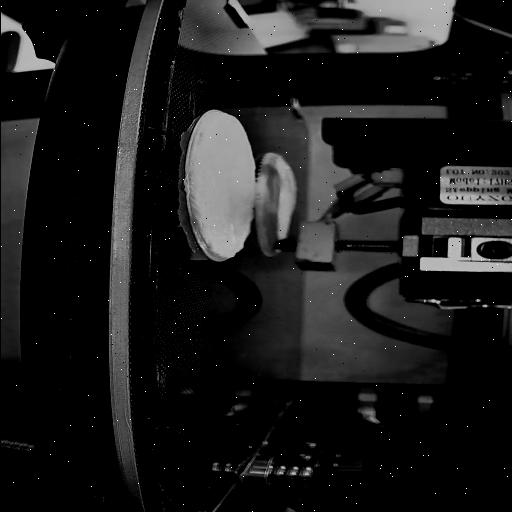over_extrusion: (199, 244, 234, 262)
